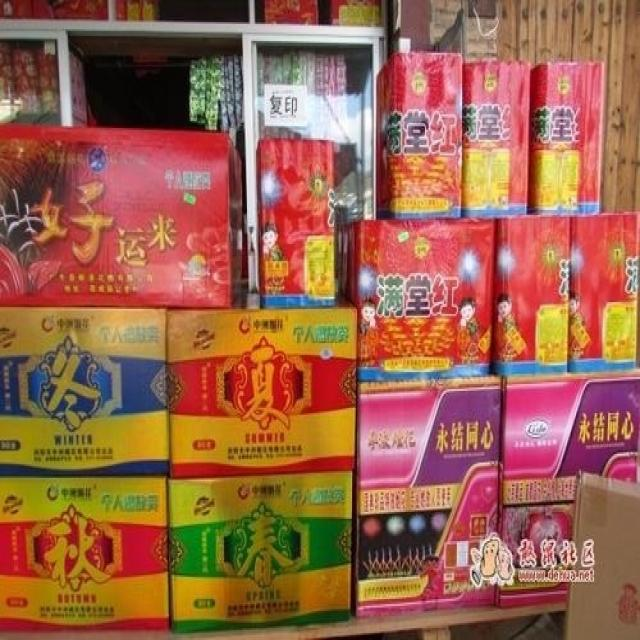box: (0, 123, 243, 309), (355, 377, 500, 616), (168, 295, 356, 478), (499, 370, 639, 608), (169, 474, 352, 633), (0, 309, 168, 474), (0, 478, 169, 630), (348, 218, 494, 379), (375, 51, 463, 218), (256, 140, 337, 309), (493, 217, 571, 375), (564, 474, 639, 638), (530, 60, 604, 215), (568, 213, 640, 372), (463, 61, 531, 218), (1, 0, 108, 20), (330, 0, 383, 27), (265, 2, 317, 24), (116, 0, 154, 22)
